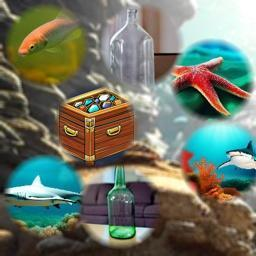not an animal: (108, 7, 159, 84), (104, 162, 140, 241)
treasure: (57, 84, 138, 164)
